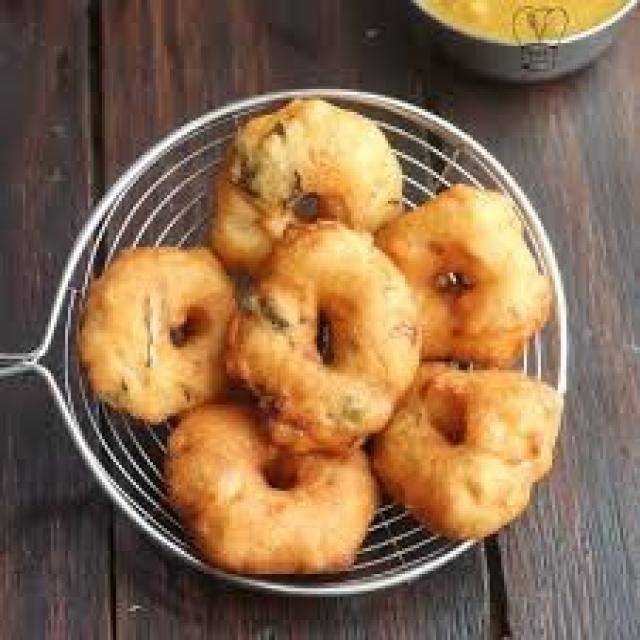medu vadai: (229, 221, 419, 448), (164, 400, 373, 572), (373, 362, 562, 536), (210, 98, 399, 270), (376, 185, 551, 366), (75, 244, 235, 421)
